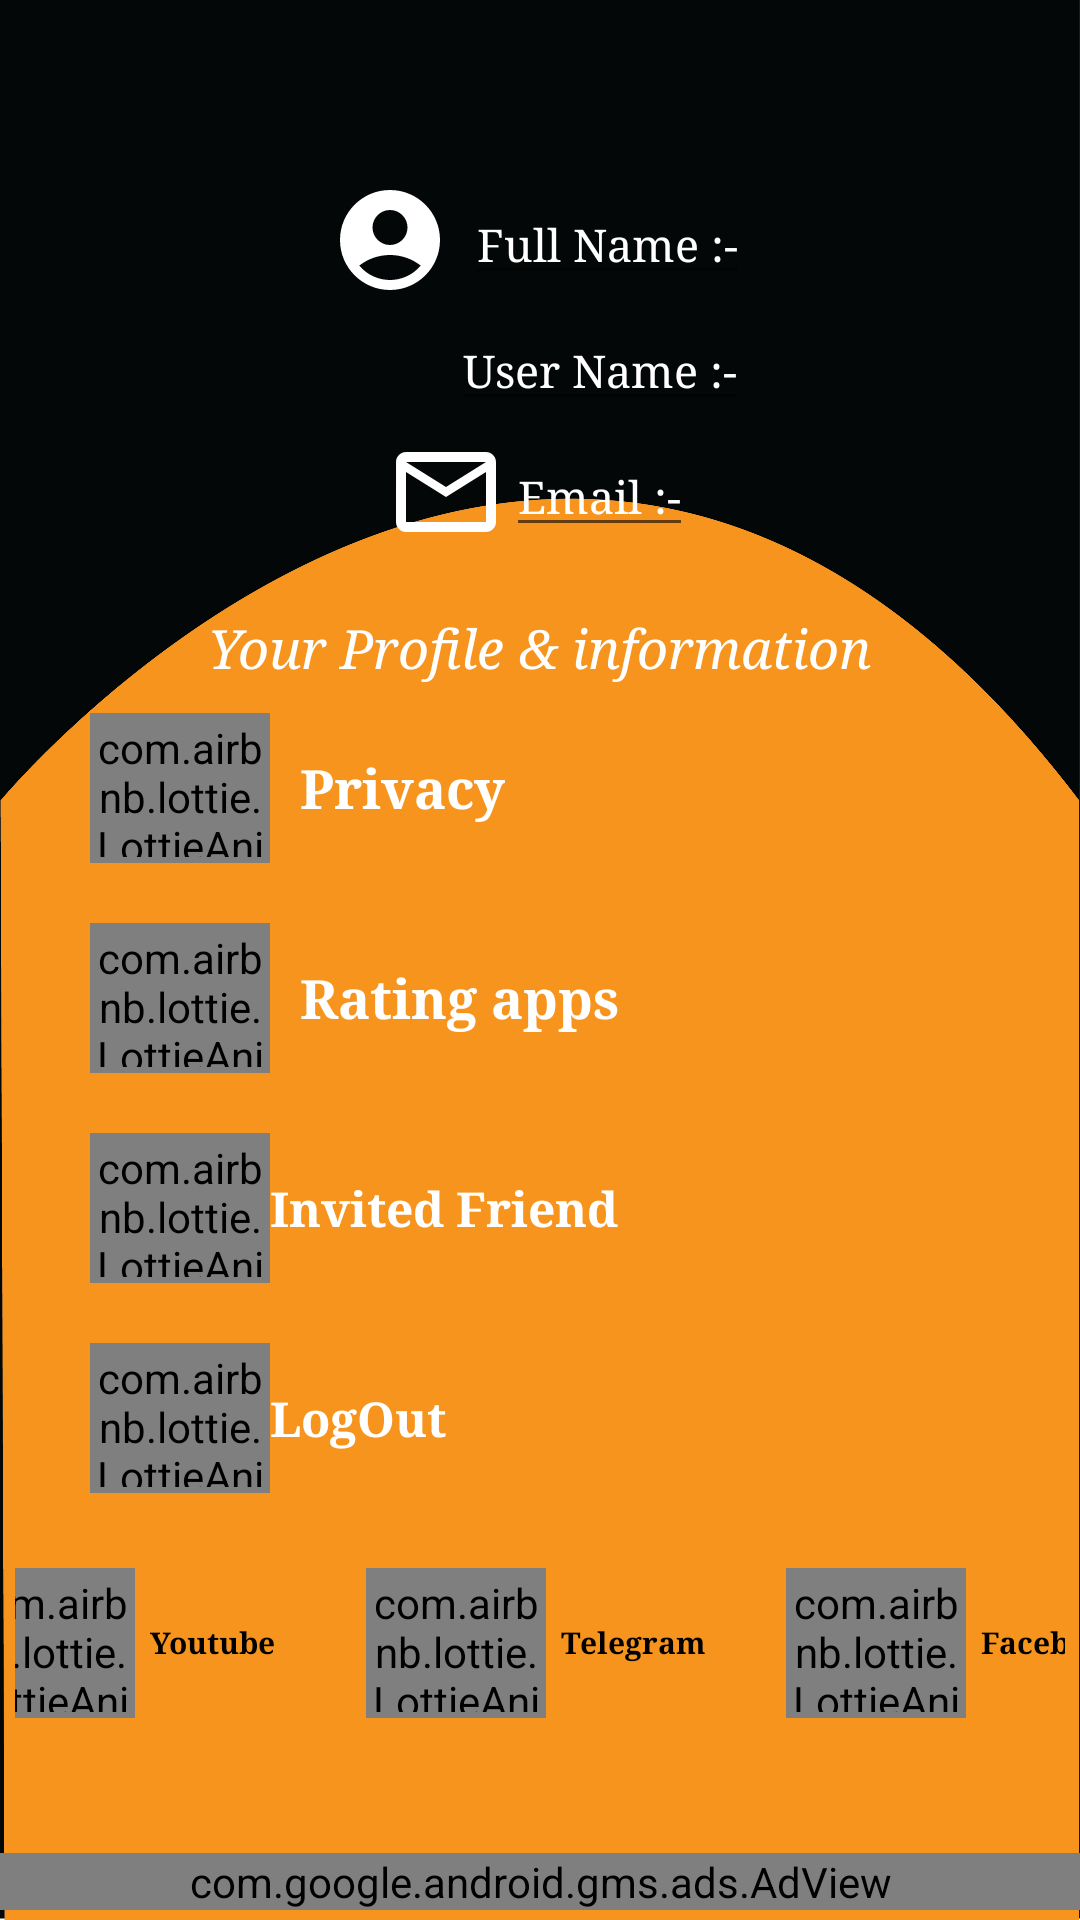

Icon bounding boxes for this 1080×1920 phone screenshot, format bbox(x1, y1, x2, y2):
account: bbox(340, 190, 440, 290)
